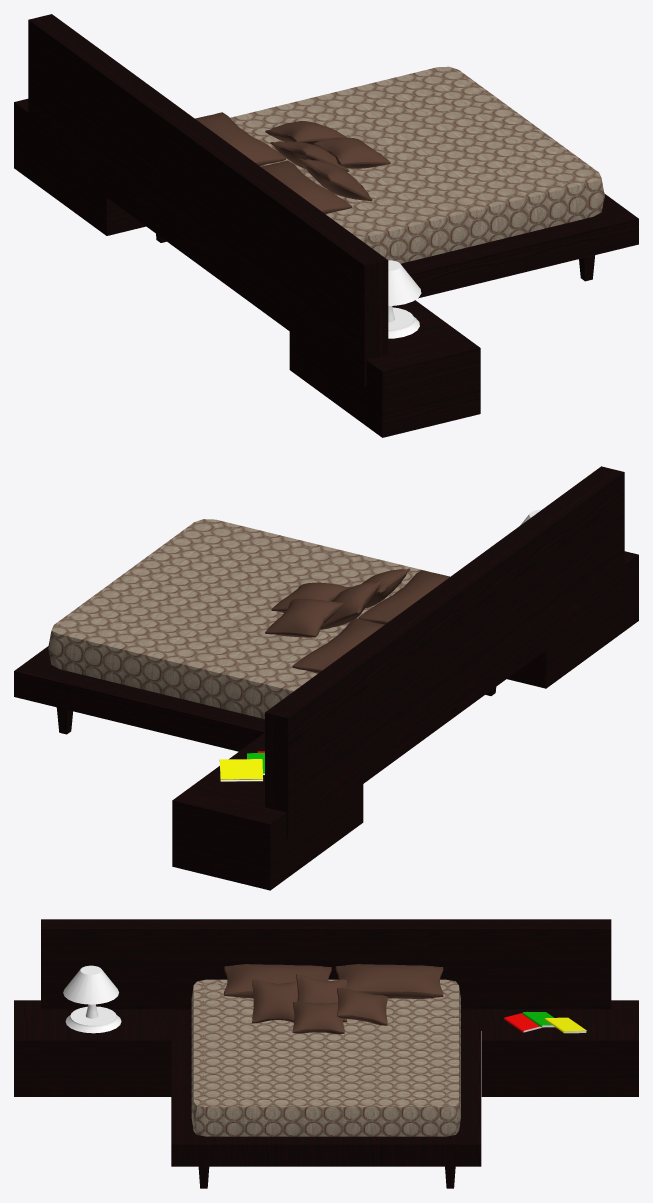
Rendered from bed.obj.
3 renders of one model, top to bottom at view 1: azimuth 30°, elevation 25°; view 2: azimuth 150°, elevation 25°; view 3: azimuth 270°, elevation 25°, orthographic. The views are drawn at different scales.
Bounding box in the file's own units: 27.85 × 12.19 × 50.63.
Materials: 11 (5 with a texture image).
